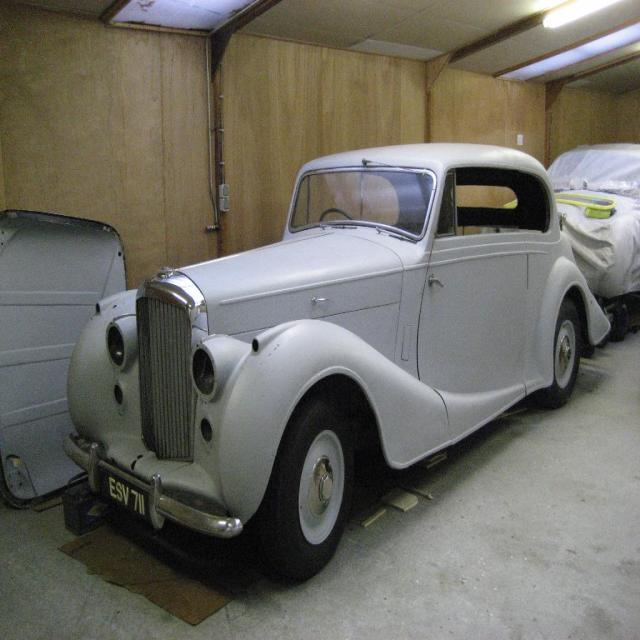car: (63, 137, 615, 581)
